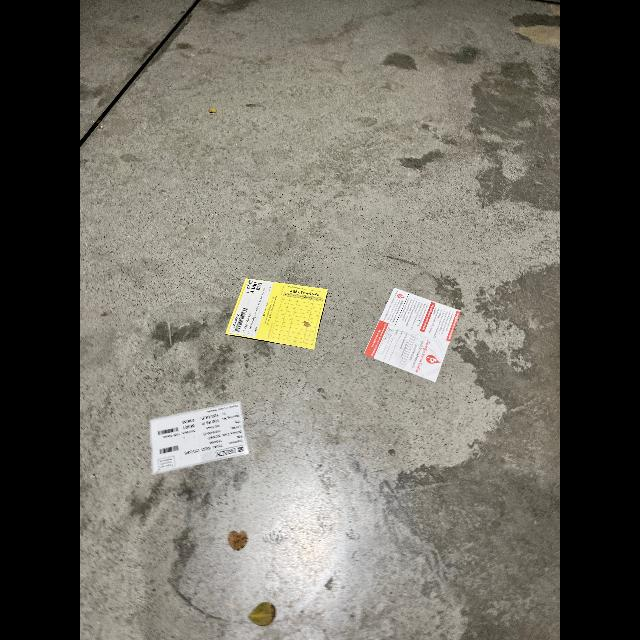scrap_paper: (364, 285, 466, 389), (224, 268, 344, 352), (145, 396, 259, 484)
